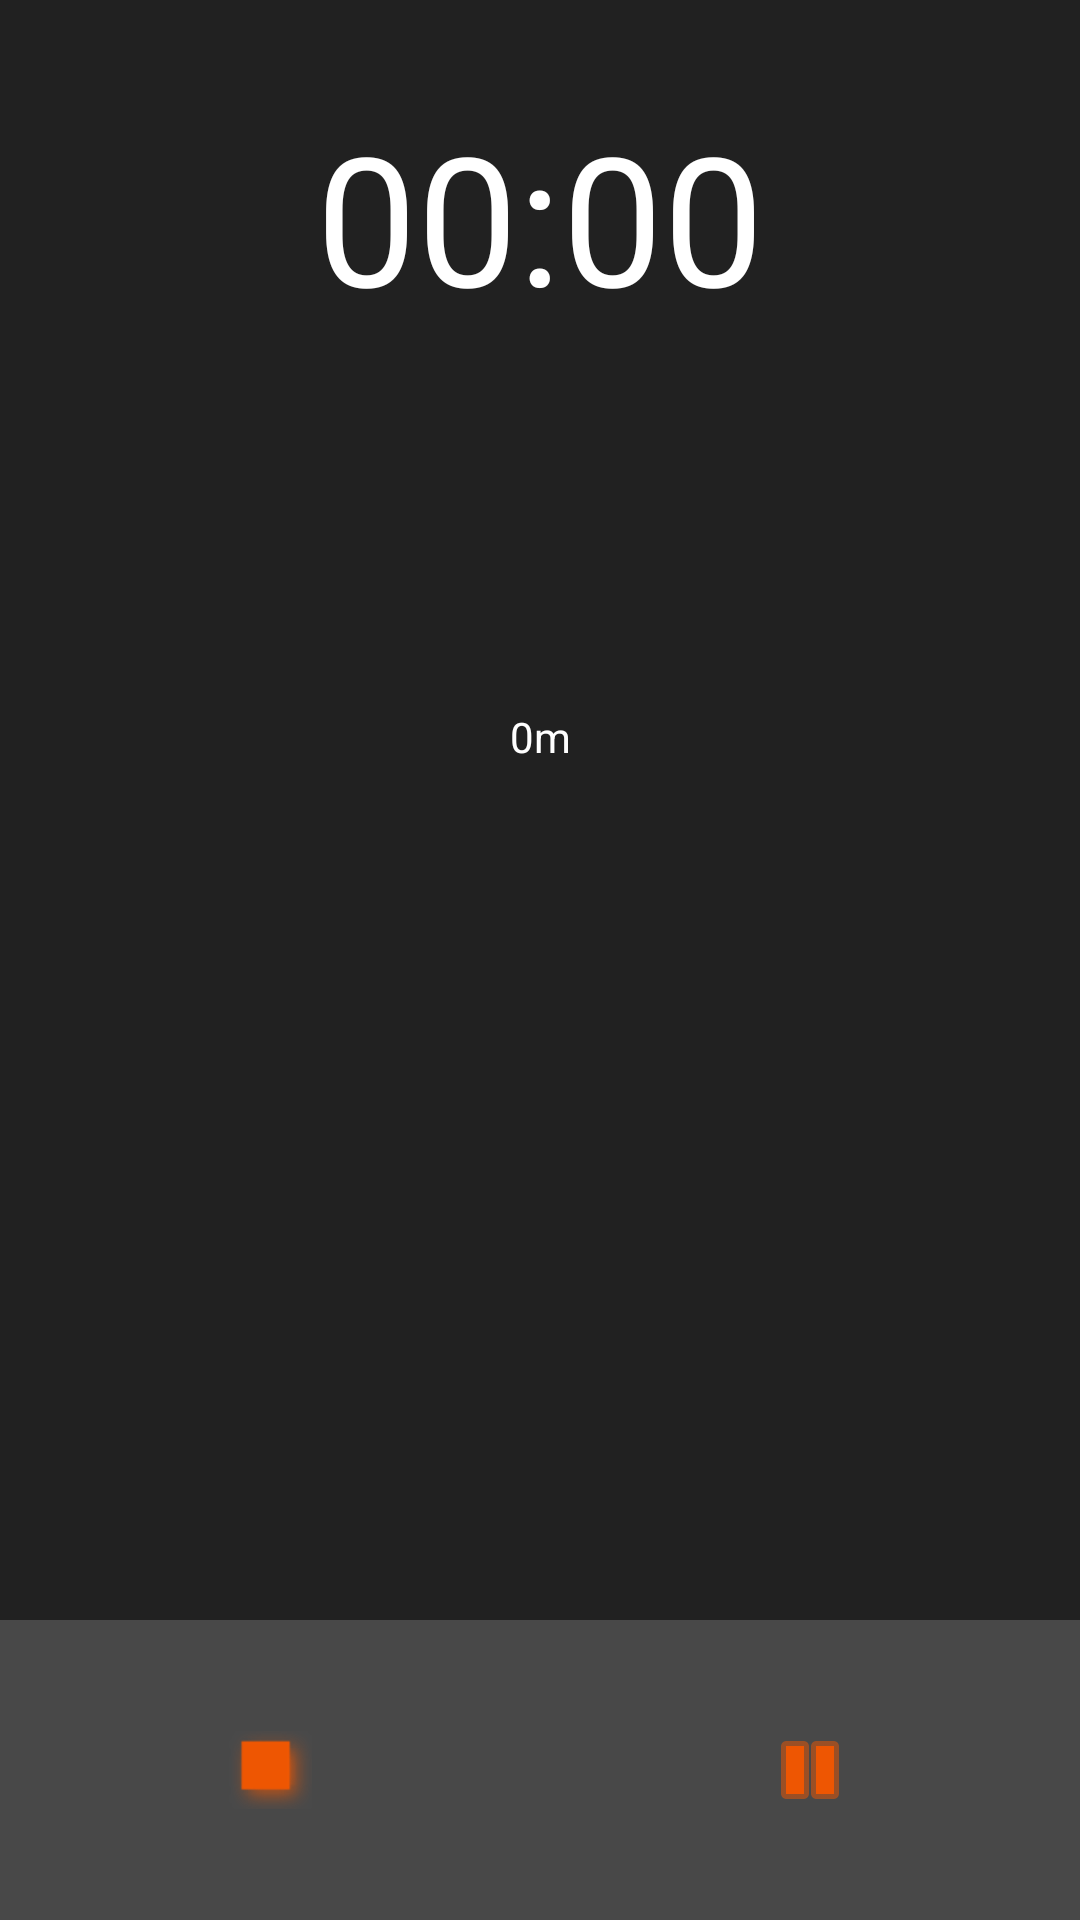

Named icons in this screenshot (1080px x 1920px) and their bounding boxes, (x1, y1, x2, y2):
pause: (781, 1741, 839, 1799)
